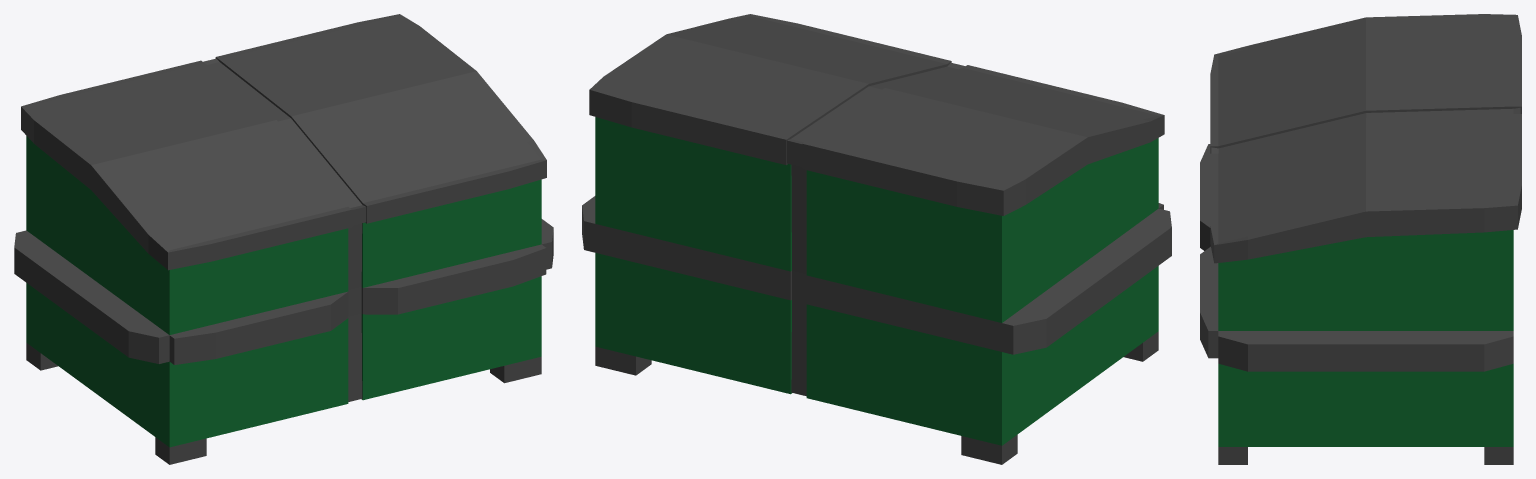
The model's file is Dumpster.fbx.
3 views of the same model, side by side, from view 1: azimuth 30°, elevation 25°; view 2: azimuth 150°, elevation 25°; view 3: azimuth 270°, elevation 25° (orthographic). The views are drawn at different scales.
Parts seen in each view (by area): view 1: pCube2; view 2: pCube2; view 3: pCube2.
Boxes of the visible parts, x1,y1,x2,y2 form: pCube2: (14,14,553,464); pCube2: (582,14,1171,464); pCube2: (1200,14,1521,464).
Size of the model in its own units: 3.43 by 1.95 by 2.18.
